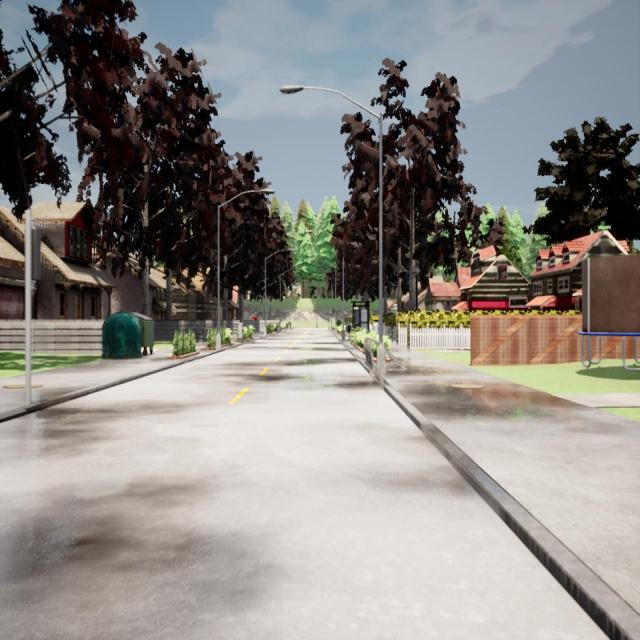traffic_light: (31, 228, 43, 282), (330, 310, 331, 317)
